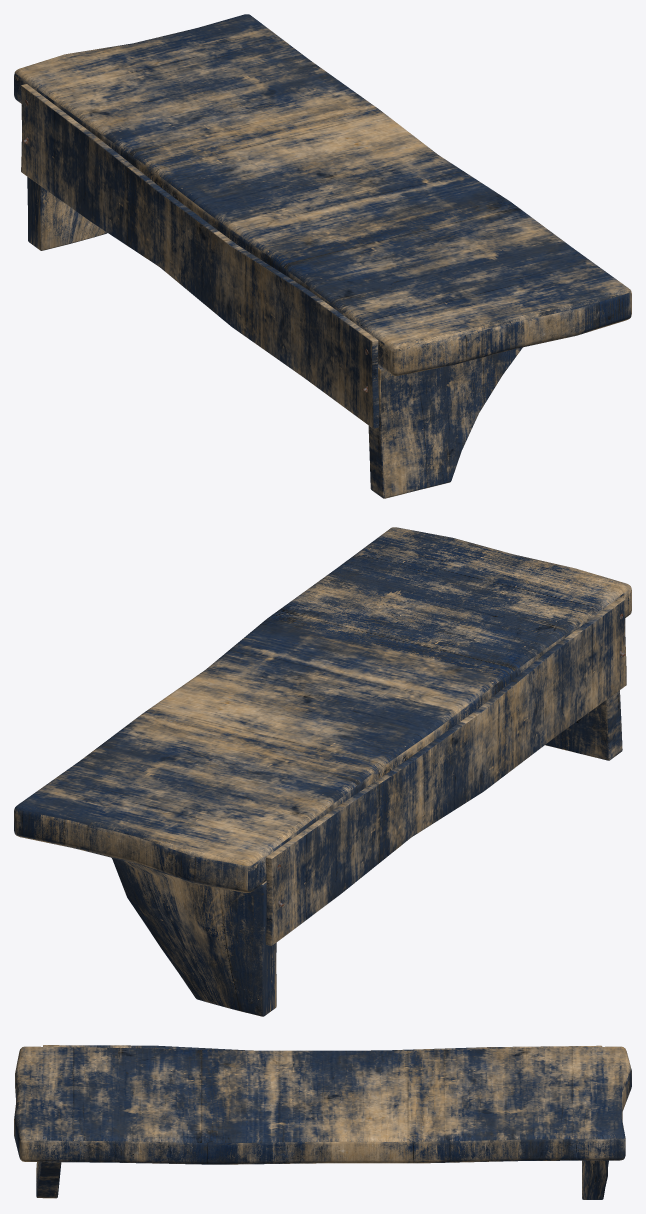
File: uploads_files_5445166_shelf1.fbx
The picture shows the model from 3 angles, top to bottom: view 1: azimuth 30°, elevation 25°; view 2: azimuth 150°, elevation 25°; view 3: azimuth 270°, elevation 25°; orthographic projection. The views are drawn at different scales.
Parts seen in each view (by area): view 1: shelfMain, back, rightLeg, leftLeg; view 2: shelfMain, back, leftLeg, rightLeg; view 3: shelfMain, back, leftLeg, rightLeg.
Part boxes in pixels (box(x1,y1,x2,y2)): shelfMain: box(14, 14, 631, 375); back: box(21, 84, 379, 428); rightLeg: box(368, 347, 522, 498); leftLeg: box(27, 177, 107, 250); shelfMain: box(14, 527, 631, 892); back: box(266, 597, 626, 945); leftLeg: box(111, 857, 276, 1016); rightLeg: box(545, 690, 622, 760); shelfMain: box(14, 1046, 631, 1164); back: box(43, 1045, 602, 1050); leftLeg: box(582, 1160, 608, 1199); rightLeg: box(36, 1162, 61, 1198).
Bounding box in the file's own units: 128 × 78.63 × 339.
